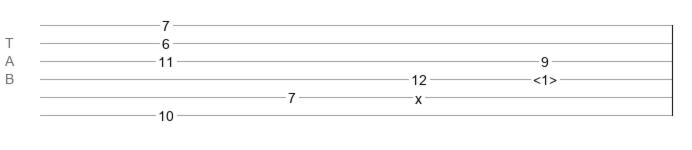10: (158, 108, 174, 118)
11: (158, 54, 174, 64)
12: (411, 72, 427, 82)
6: (162, 36, 170, 46)
7: (162, 18, 170, 28), (288, 90, 296, 100)
9: (541, 54, 549, 64)
harmonic: (533, 72, 557, 82)
x: (415, 91, 422, 99)
